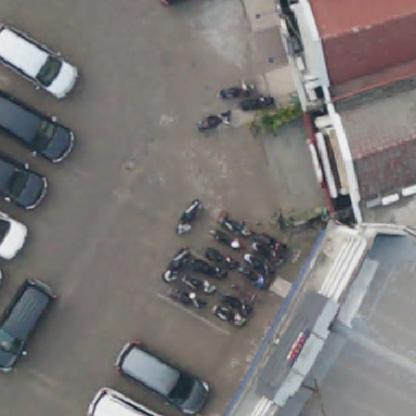car: (115, 341, 208, 415), (0, 21, 80, 99), (0, 274, 56, 372), (0, 93, 76, 163), (0, 152, 50, 212), (88, 387, 164, 415), (0, 211, 32, 260)
motorcycle: (252, 229, 288, 263), (161, 247, 188, 282), (219, 213, 254, 239), (238, 267, 270, 291), (197, 111, 230, 134), (176, 199, 199, 232), (243, 255, 276, 278), (215, 307, 247, 329), (171, 289, 205, 309), (206, 248, 237, 268), (242, 95, 273, 111), (217, 88, 251, 98)
